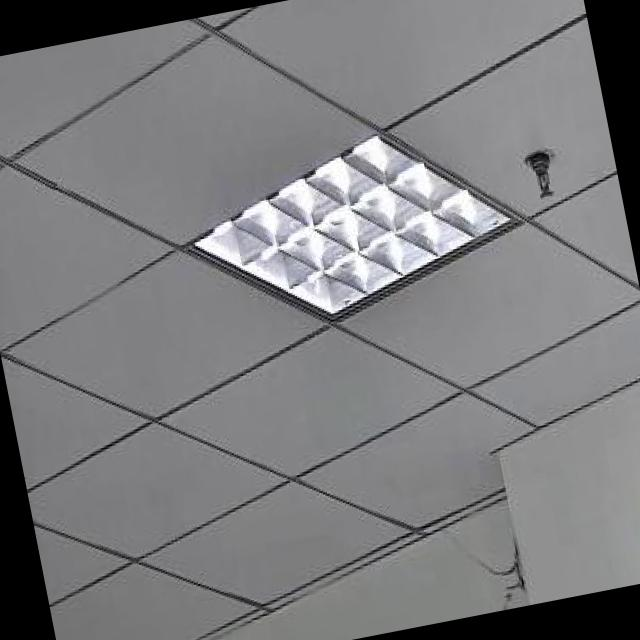Guns: (595, 282, 640, 581)
